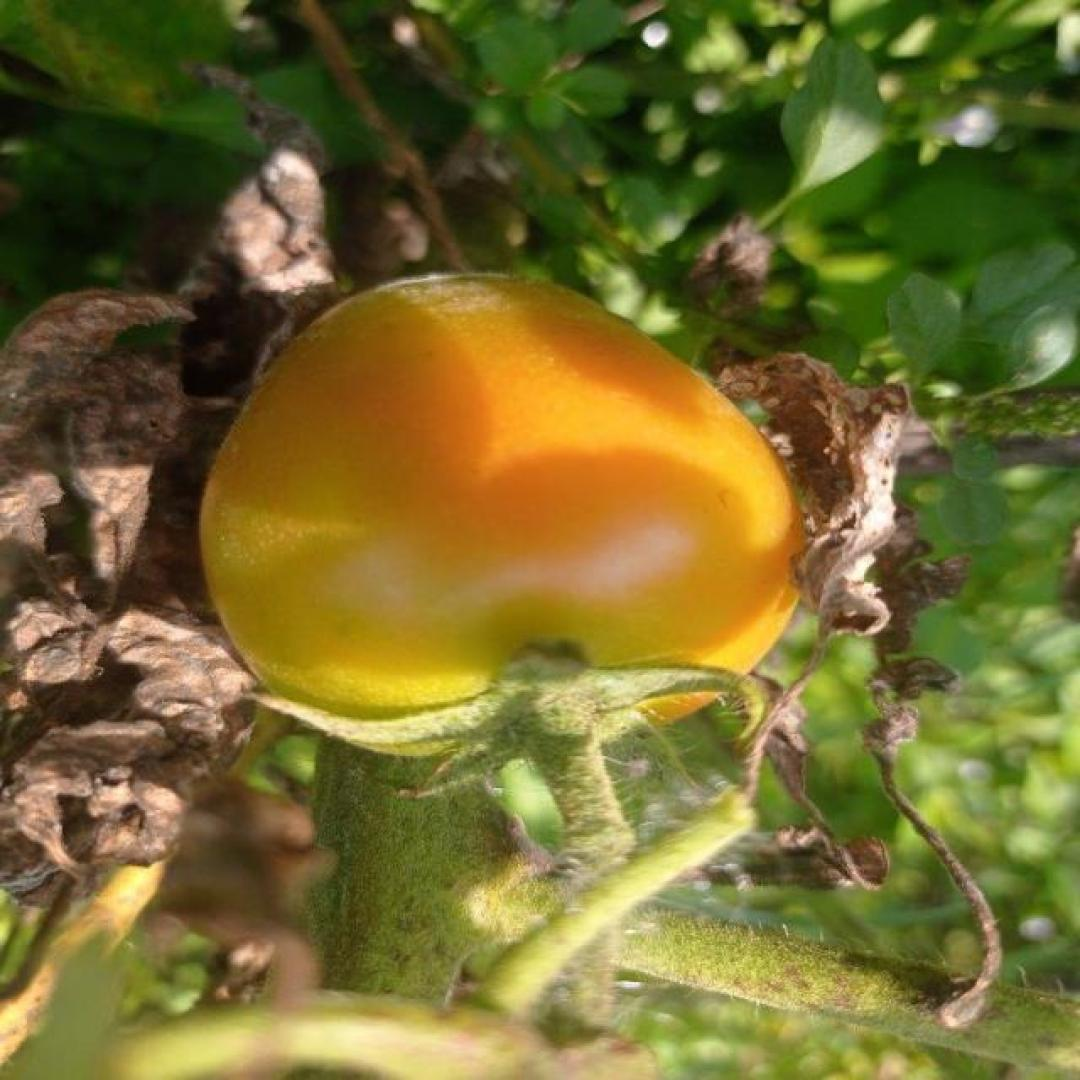setengah_matang: (194, 268, 812, 766)
